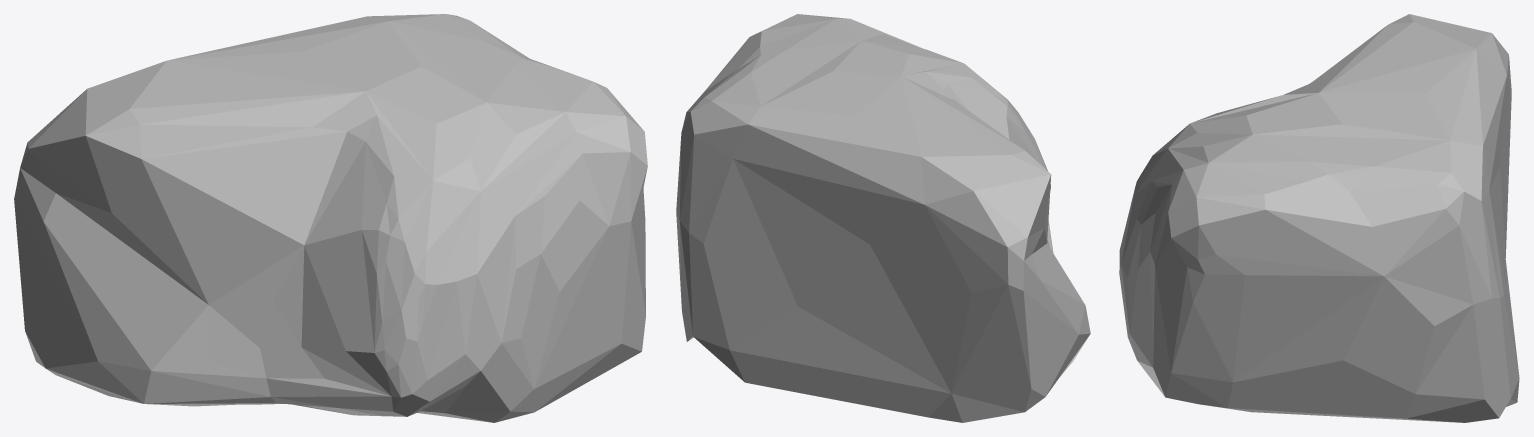
The model's file is Rock_043.glb.
3 renders of one model, left to right at view 1: azimuth 30°, elevation 25°; view 2: azimuth 150°, elevation 25°; view 3: azimuth 270°, elevation 25°, orthographic. The views are drawn at different scales.
Visible parts, largest first — view 1: Rock_043; view 2: Rock_043; view 3: Rock_043.
Part boxes in pixels (x1=…): Rock_043: x1=14, y1=14, x2=647, y2=422; Rock_043: x1=676, y1=14, x2=1090, y2=422; Rock_043: x1=1119, y1=14, x2=1519, y2=422.
Size of the model in its own units: 3.15 by 1.97 by 2.58.
Materials: 1 (1 with a texture image).
